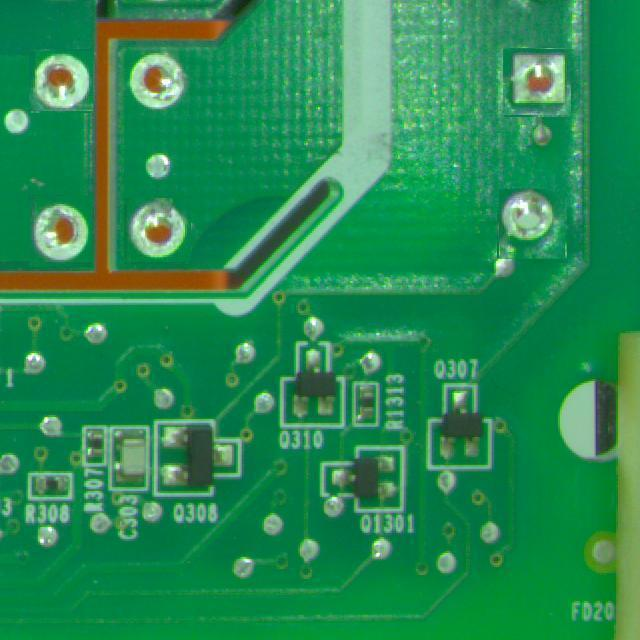lack_of_part: (498, 190, 566, 259), (503, 49, 571, 116), (29, 195, 92, 267), (124, 197, 190, 263), (125, 48, 187, 117), (30, 50, 93, 112)
